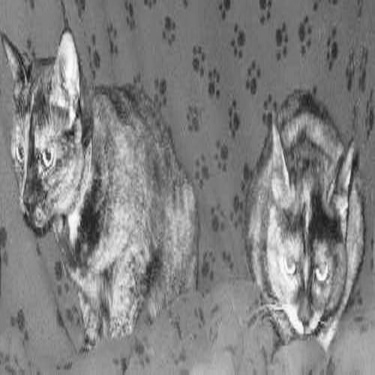cat: (1, 24, 201, 344), (243, 80, 366, 350)
